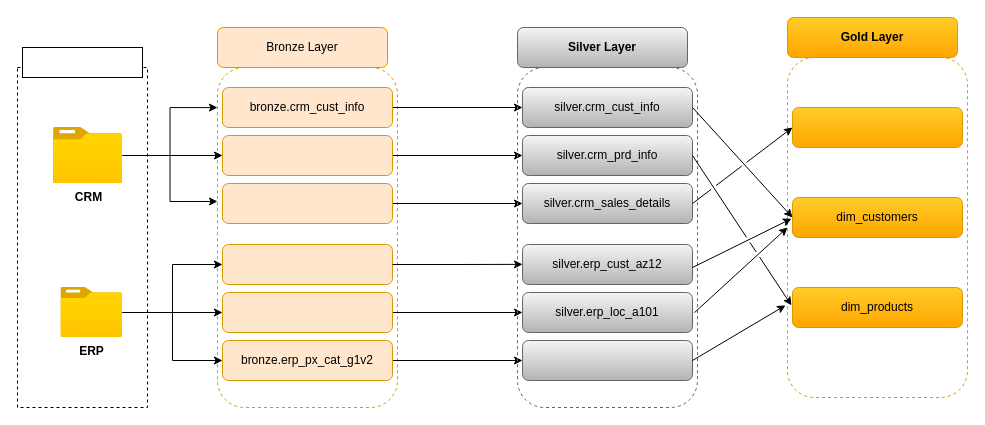
Some shapes in this 985 by 425 pixel diagram are drawn without their labels. The centre of each missing label's shape, as x and y in pixels:
bronze.crm_prd_info: (307,155)
bronze.crm_sales_details: (307,203)
bronze.erp_cust_az12: (307,264)
bronze.erp_loc_a101: (307,312)
fact_sales: (877,127)
silver.erp_px_cat_g1v2: (607,360)
Sources: (82,62)
